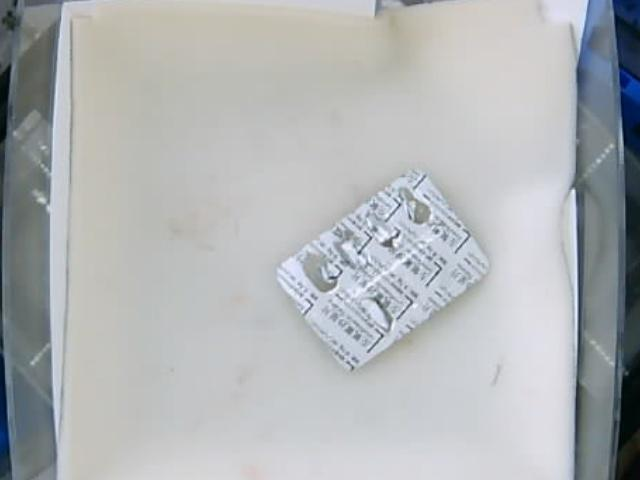Medicine: (276, 170, 487, 370)
